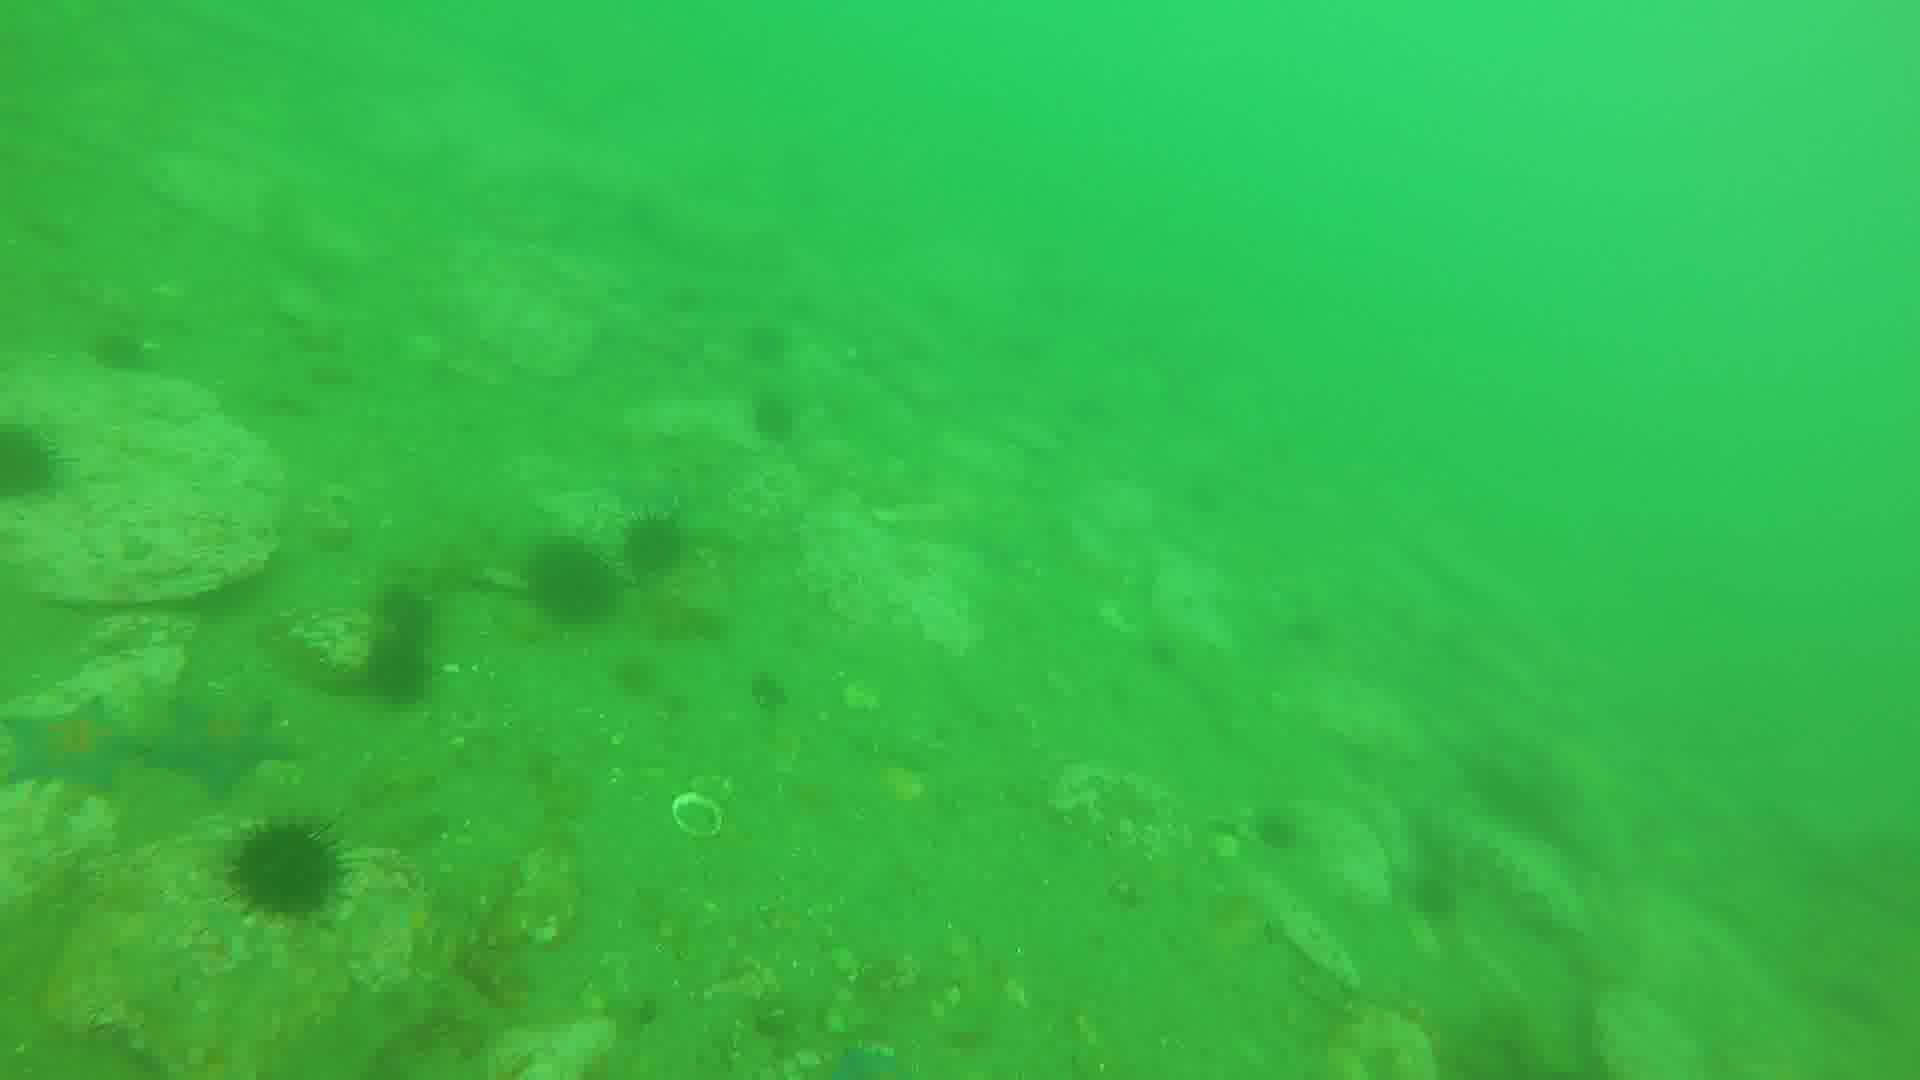echinus: (228, 820, 345, 919), (534, 541, 618, 628), (361, 637, 438, 711), (609, 516, 700, 570), (1, 426, 55, 508), (741, 394, 808, 451), (378, 585, 440, 636), (1411, 868, 1468, 919)
starfish: (8, 702, 152, 802), (161, 692, 307, 790)
